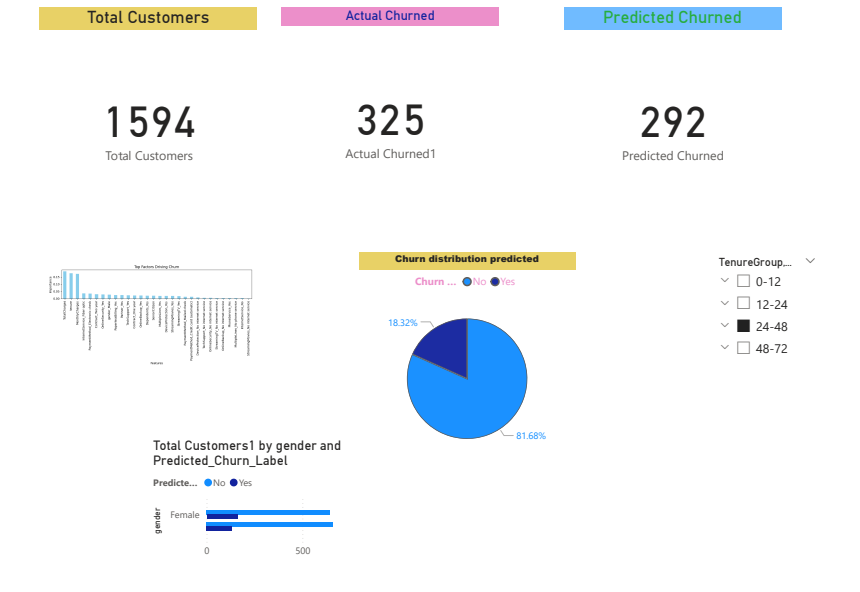

The dashboard page shown, as its layout file describes it:
{"tool":"powerbi","page":{"name":"Page 1","canvas":[1280,720],"ordinal":0},"visuals":[{"type":"card","title":"Total Customers","fields":{"Values":["churn_predictions_full.Total Customers"]},"box":[10,0,280,280],"z":0},{"type":"card","title":"Actual Churned","fields":{"Values":["churn_predictions_full.Actual Churned1"]},"box":[322,0,280,280],"z":1000},{"type":"card","title":"Predicted Churned","fields":{"Values":["churn_predictions_full.Predicted Churned"]},"box":[686,0,280,280],"z":2000},{"type":"pieChart","title":"Churn distribution predicted","fields":{"Category":["churn_predictions_full.Predicted_Churn_Label"],"Y":["CountNonNull(churn_predictions_full.customerID)"]},"box":[420,315.8,280,280],"z":3000},{"type":"image","box":[10,316,280,162],"z":4000},{"type":"clusteredBarChart","fields":{"Category":["churn_predictions_full.gender"],"Series":["churn_predictions_full.Predicted_Churn_Label"],"Y":["churn_predictions_full.Total Customers1"]},"box":[150,556,280,164],"z":4001},{"type":"slicer","fields":{"Values":["churn_predictions_full.TenureGroup","churn_predictions_full.Contract","churn_predictions_full.PaymentMethod","churn_predictions_full.gender","churn_predictions_full.Predicted_Churn_Label"]},"box":[872,316,150,280],"z":4002}]}

Visuals, with their boxes on the page's 1280x720 design canvas (x1, y1, x2, y2). These are canvas units, not pixel positions in the 860x592 screenshot, which may show the page scaled, cropped or inside an application window:
"Total Customers" card: 10:0:290:280
"Actual Churned" card: 322:0:602:280
"Predicted Churned" card: 686:0:966:280
"Churn distribution predicted" pieChart: 420:316:700:596
image: 10:316:290:478
clusteredBarChart - churn_predictions_full.gender x churn_predictions_full.Predicted_Churn_Label: 150:556:430:720
slicer - churn_predictions_full.TenureGroup x churn_predictions_full.Contract: 872:316:1022:596
